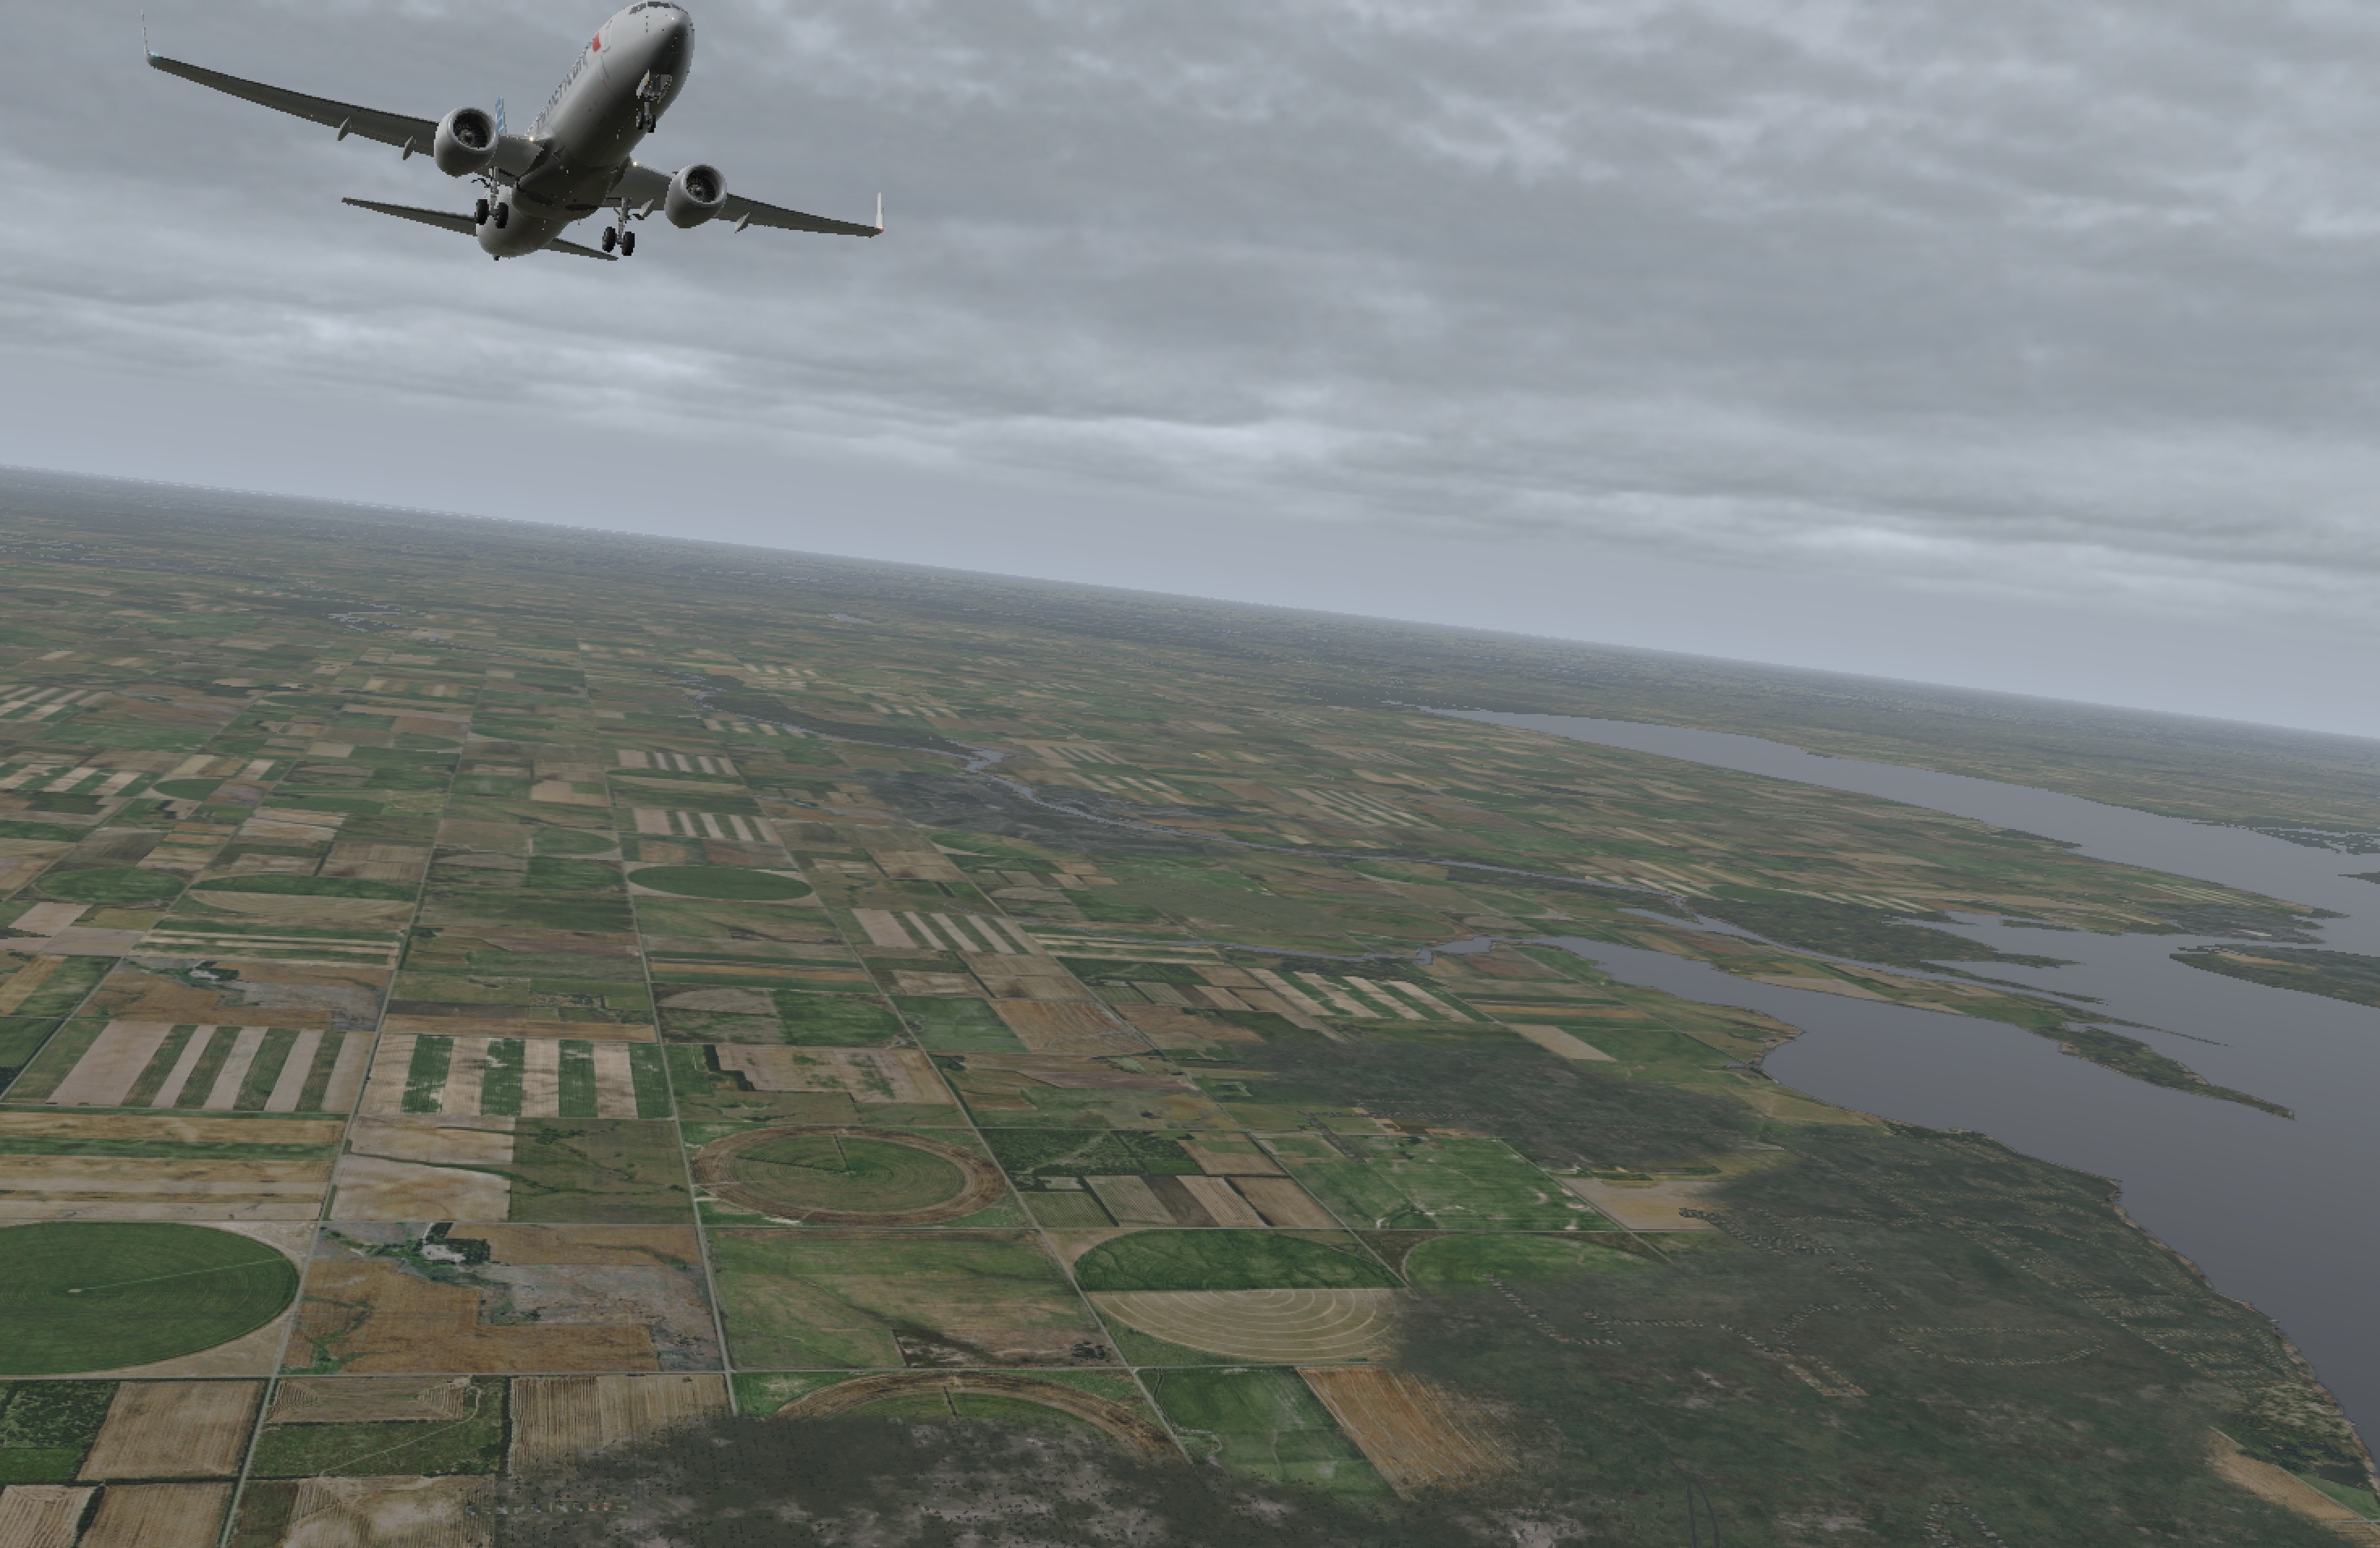aircraft: (167, 16, 970, 316)
